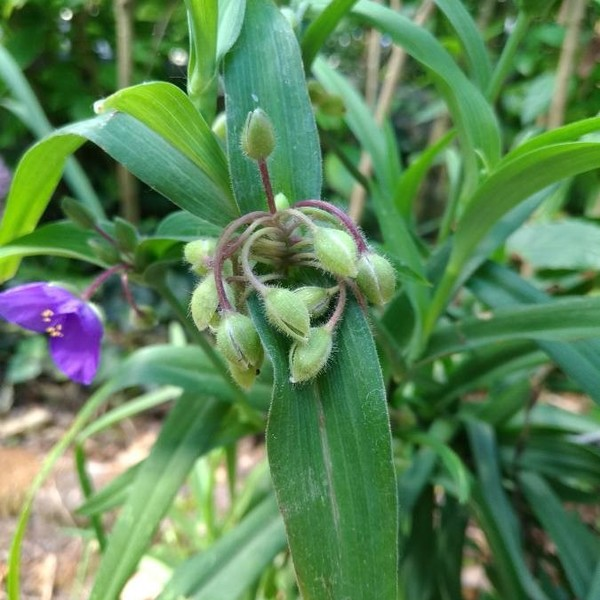obstacle: (70, 10, 566, 568)
